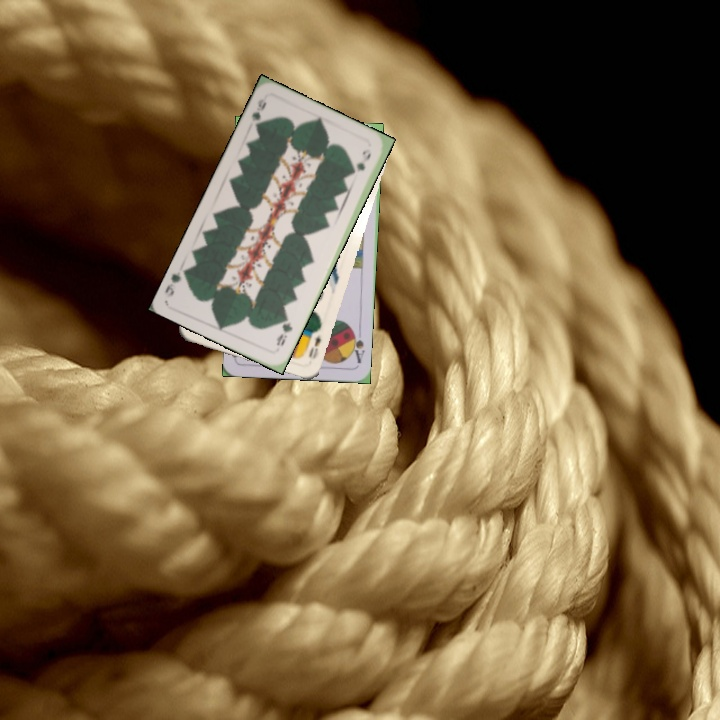EO: (299, 324, 323, 361)
G9: (247, 95, 269, 134), (272, 313, 295, 348)
SA: (347, 326, 367, 366)
